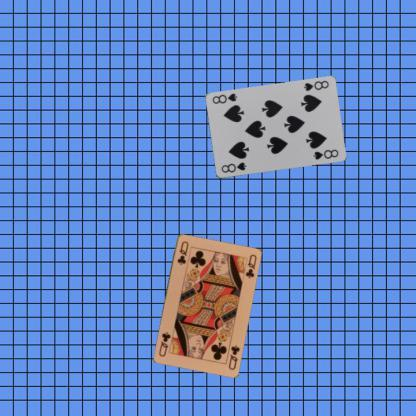8s: (218, 160, 248, 175), (301, 78, 330, 92)
Qc: (174, 238, 190, 266), (226, 342, 241, 371)
